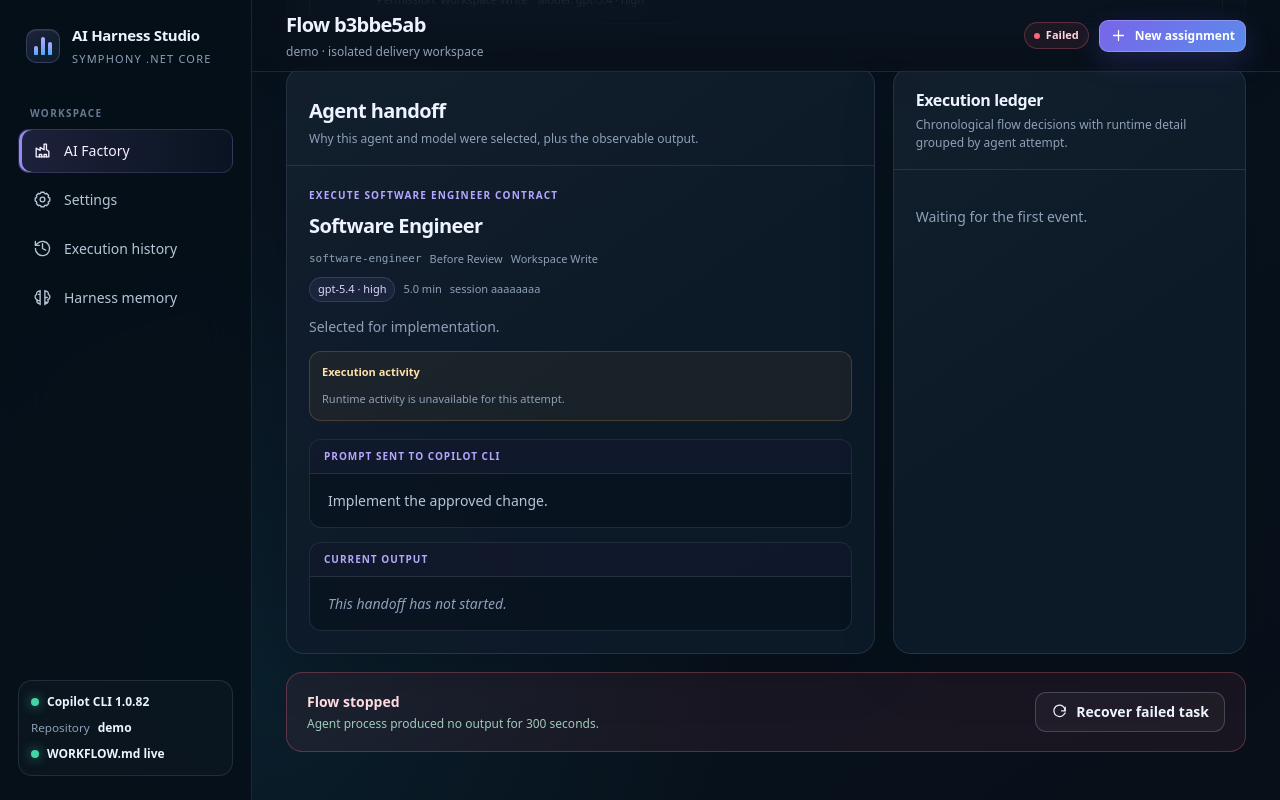
Test: FlowPage manual restart › recognizes committed Manual restart of Software Engineer when the restart response is ambiguous
(page scrolled)
Click the button "Recover failed task" at (1130, 712), box [1035,692,1225,732]
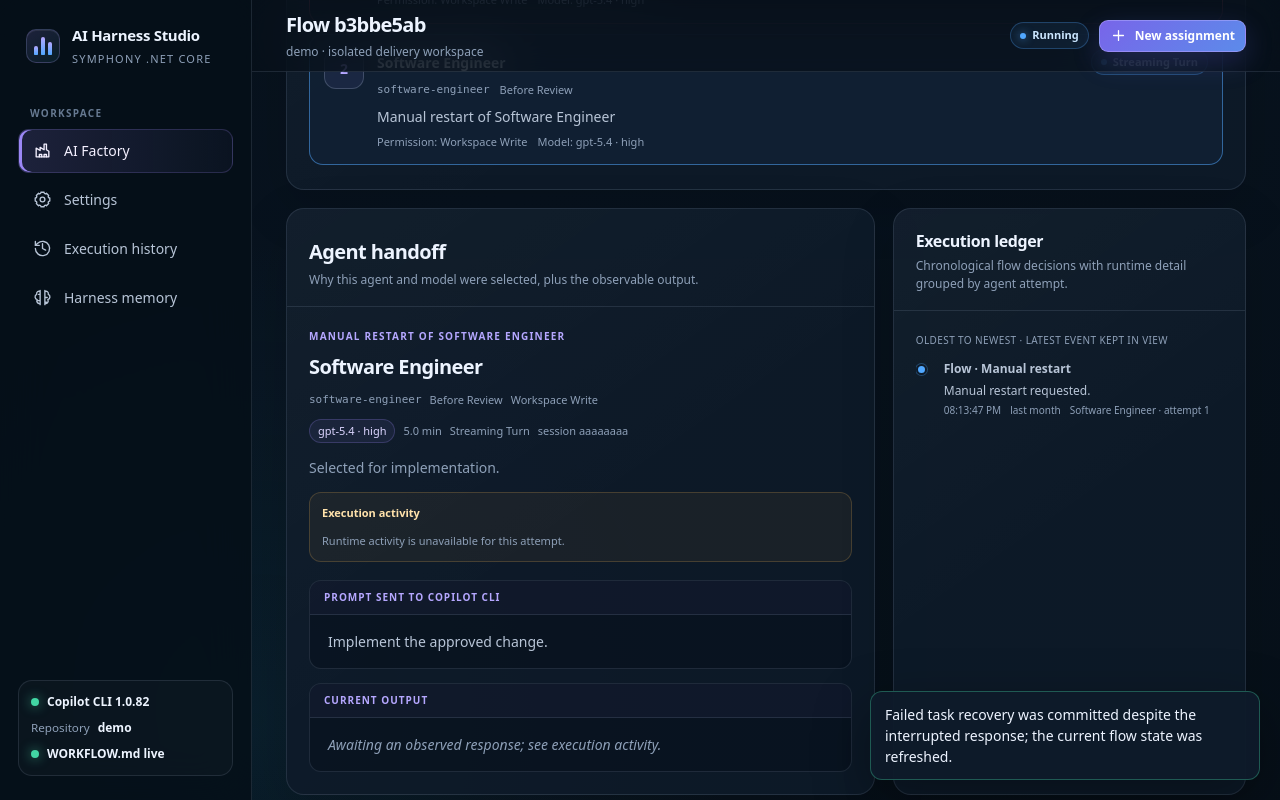
expect the text "Failed task recovery was committed despite the interrupted response; the current flow state was refreshed." is shown: met, box [885,705,1202,766]
expect the text "Manual restart of Software Engineer" below "completed" is shown: met, box [377,107,615,126]
